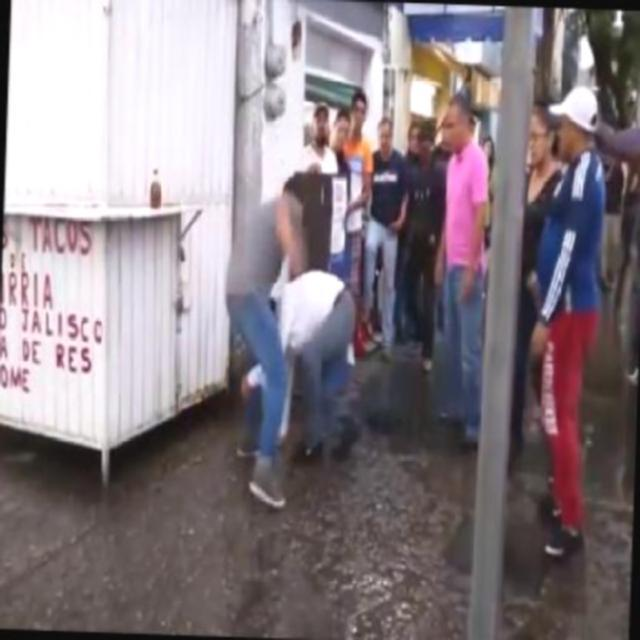fight: (218, 168, 364, 514)
non-fight: (524, 84, 610, 561), (424, 92, 494, 446)
